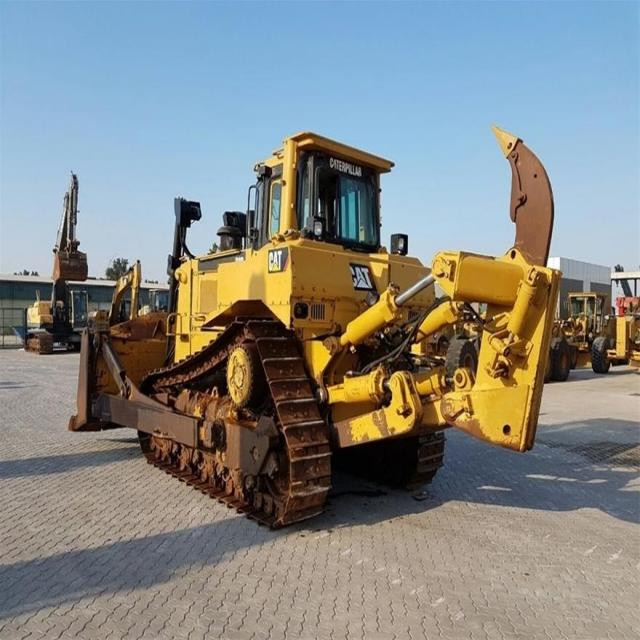Bulldozer: (59, 101, 579, 554)
